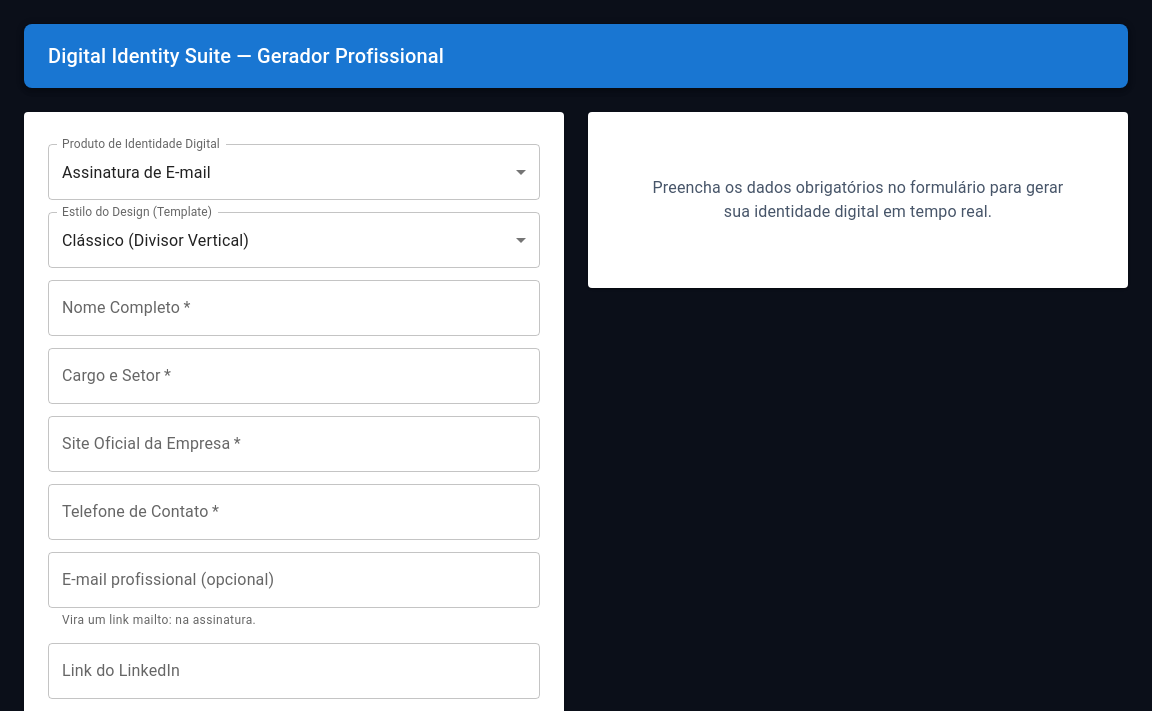
Test: PNG e limite do Gmail › baixa o PNG, registra o evento e avisa quando o toPng falha
In the field labelled "Nome Completo *": {"x": 294, "y": 308} [48,280,540,336], type "Ada Lovelace"
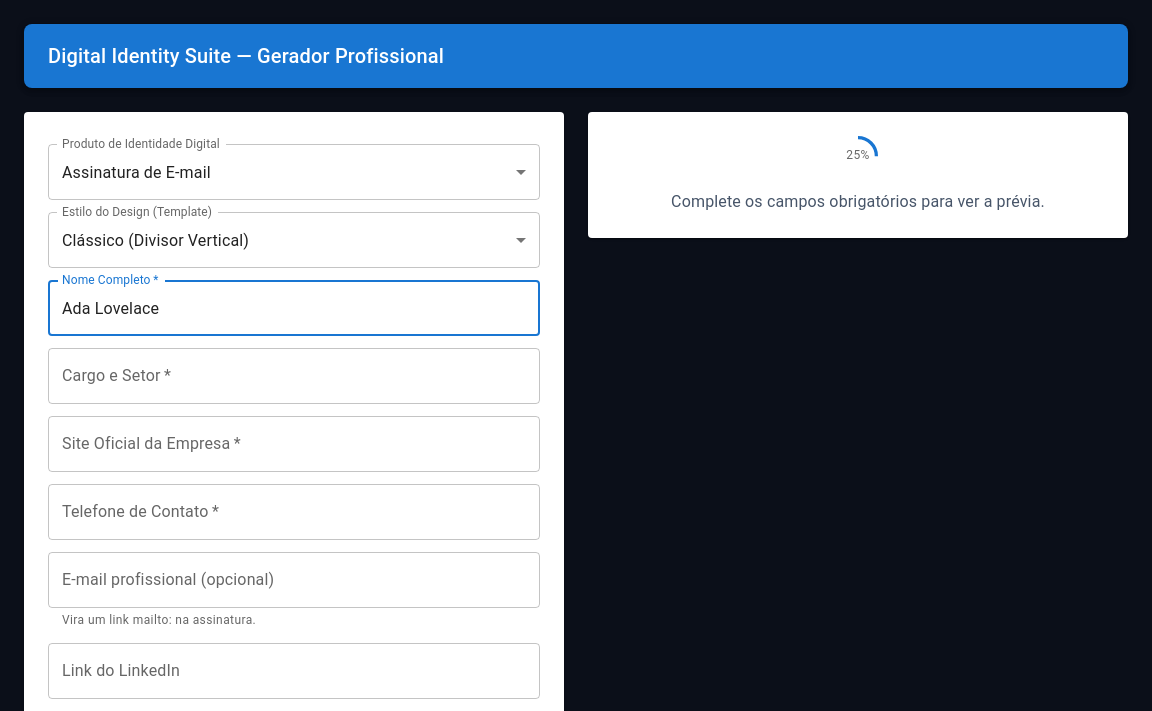
In the field labelled "Cargo e Setor *": {"x": 294, "y": 376} [48,348,540,404], type "Engenheira"
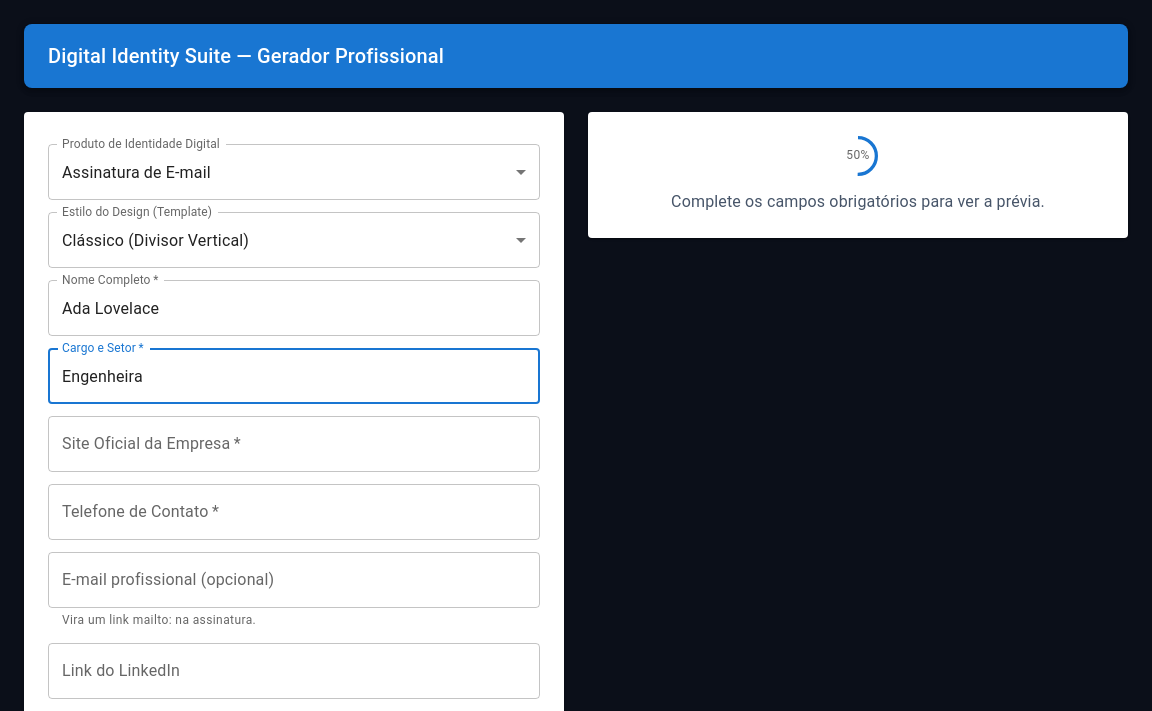
In the field labelled "Site Oficial da Empresa *": {"x": 294, "y": 444} [48,416,540,472], type "empresa.com.br"
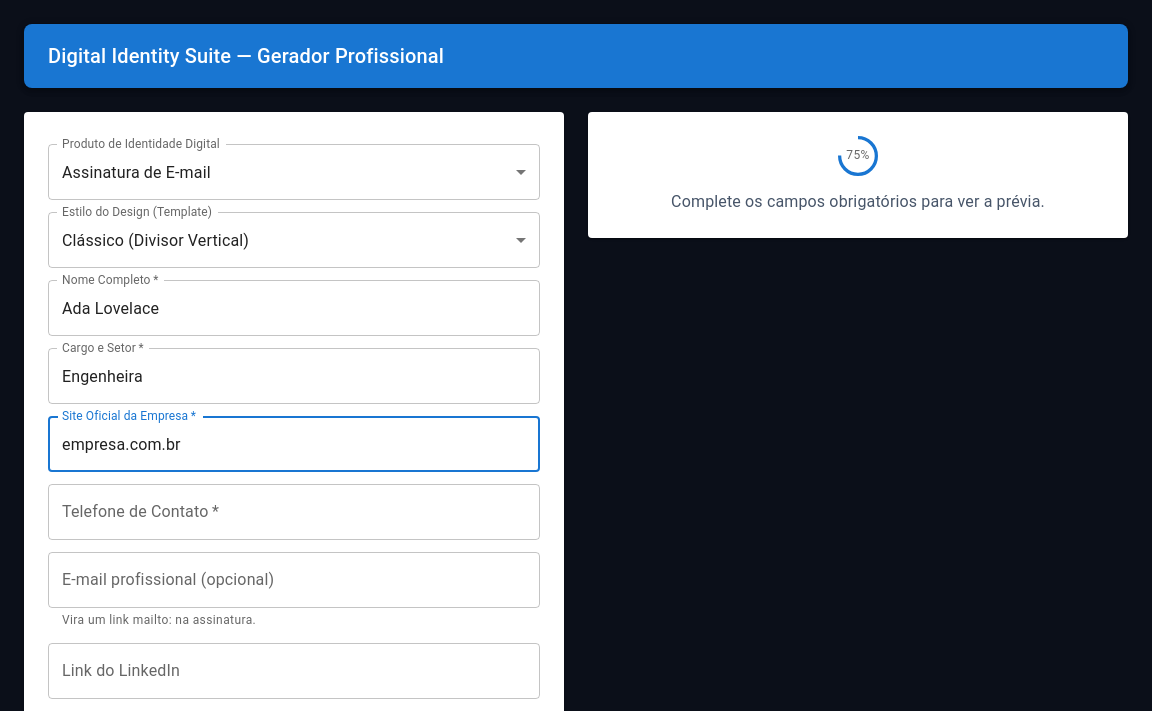
In the field labelled "Telefone de Contato *": {"x": 294, "y": 512} [48,484,540,540], type "11 98888-7777"
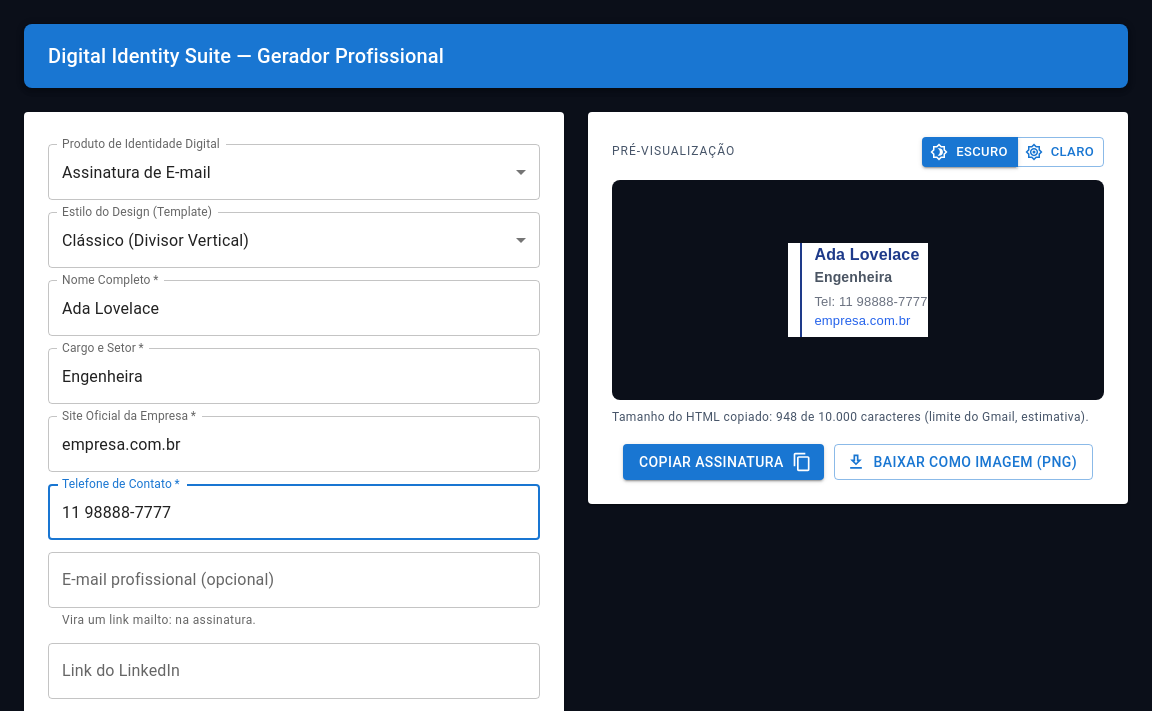
Click the button "Baixar como imagem (PNG)": {"x": 963, "y": 462} [834,444,1093,480]
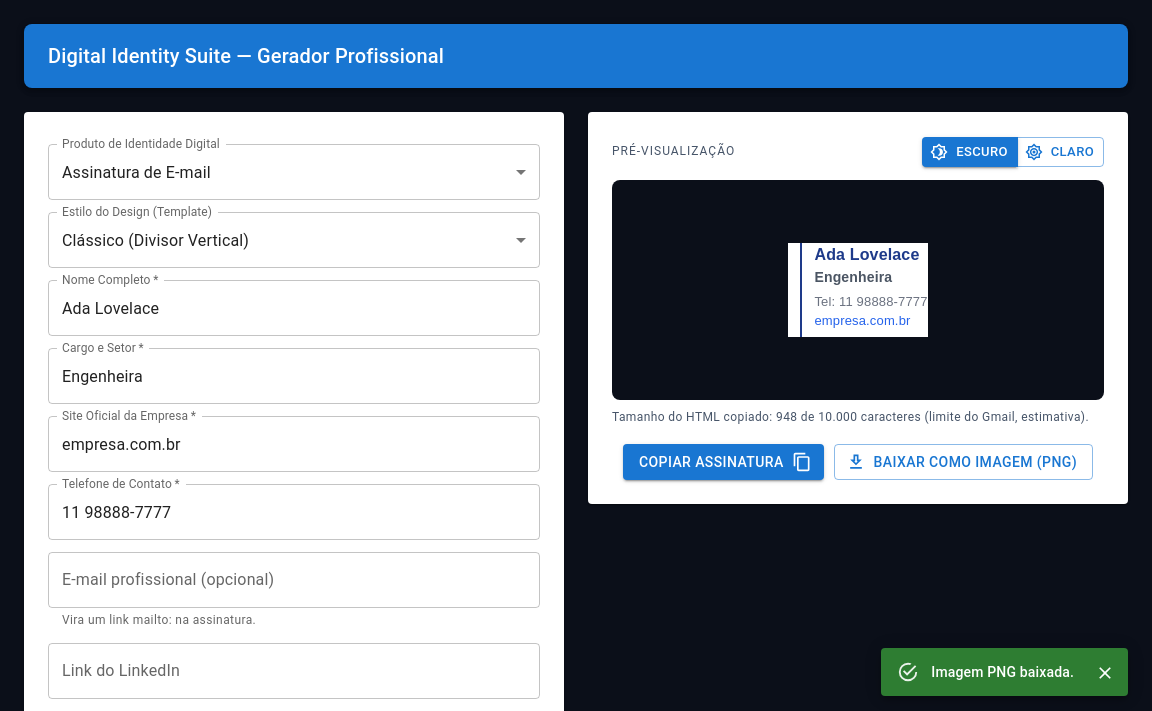
Now the text "Imagem PNG baixada." is shown, box [931,664,1074,680]
Click the button "Baixar como imagem (PNG)": {"x": 963, "y": 462} [834,444,1093,480]
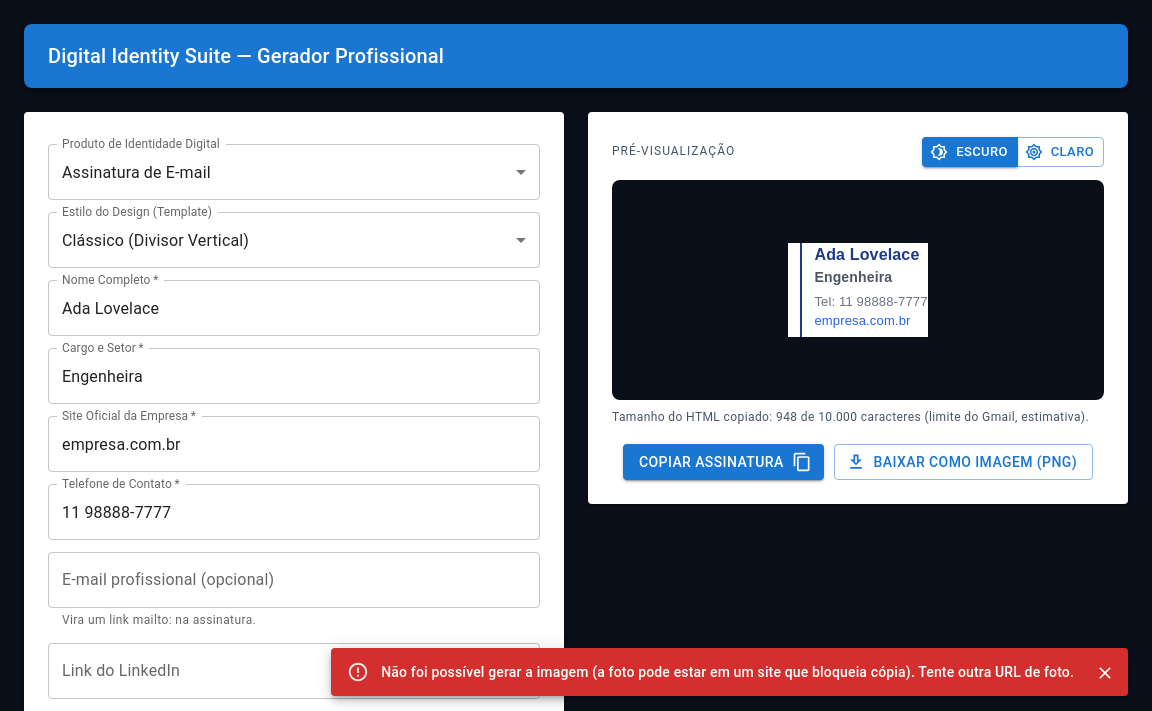
Now the text "Não foi possível gerar a imagem" is shown, box [381,664,1074,680]
